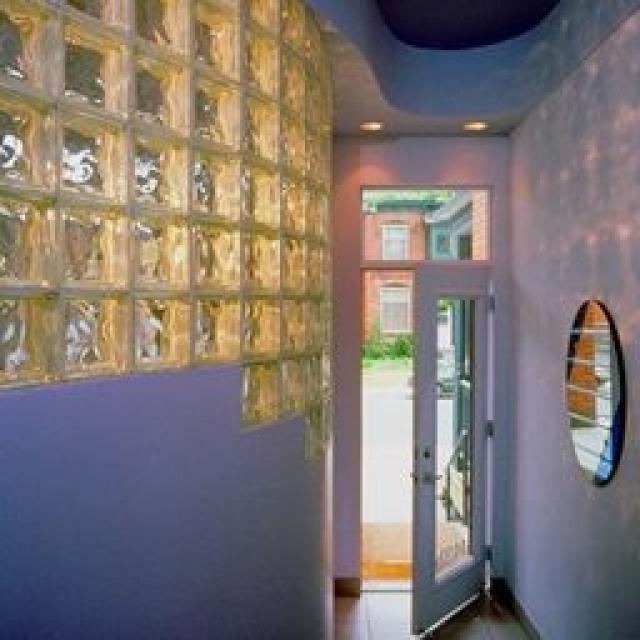2001: (360, 182, 485, 258)
ceiling beam: (308, 0, 633, 130)
door bars: (412, 260, 485, 630)
glass: (0, 0, 330, 452)
mirror crop: (560, 300, 620, 478)
wall clock: (0, 368, 328, 635), (502, 12, 632, 632)
